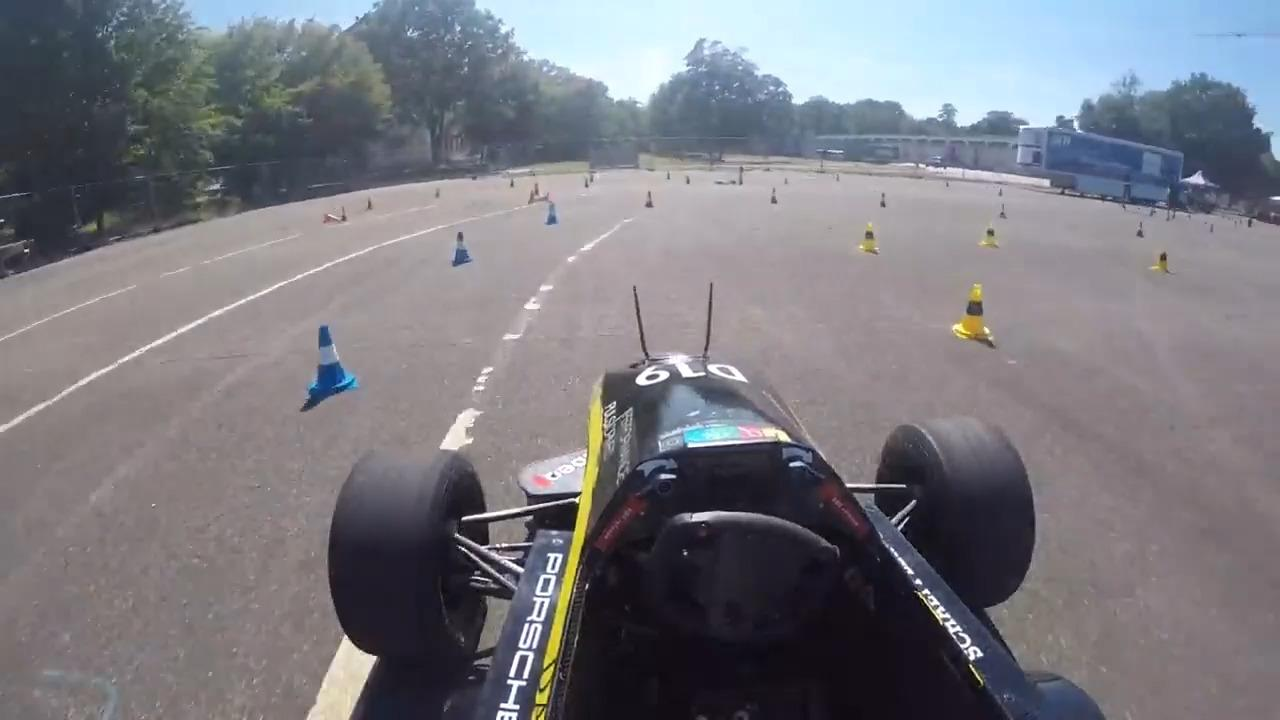blue_cone: (301, 321, 364, 396), (448, 228, 474, 265), (543, 201, 558, 225), (767, 186, 780, 206), (874, 191, 887, 210), (643, 188, 654, 210), (1133, 221, 1146, 239), (998, 202, 1008, 220)
yellow_cone: (947, 278, 991, 345), (857, 218, 877, 253), (1150, 246, 1171, 276), (980, 220, 998, 250)
